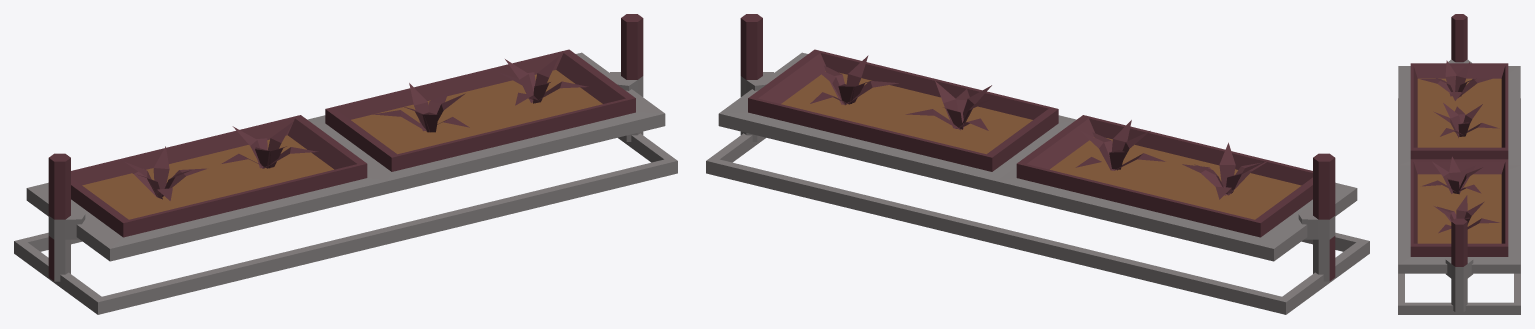
File: scifi-hydroponic-shelf-bottom.fbx
3 views of the same model, side by side, from view 1: azimuth 30°, elevation 25°; view 2: azimuth 150°, elevation 25°; view 3: azimuth 270°, elevation 25° (orthographic). The views are drawn at different scales.
Visible parts, largest first — view 1: scifi-hydroponic-shelf-bottom; view 2: scifi-hydroponic-shelf-bottom; view 3: scifi-hydroponic-shelf-bottom.
Boxes of the visible parts, left/top/right/bottom form: scifi-hydroponic-shelf-bottom: left=14, top=14, right=677, bottom=314; scifi-hydroponic-shelf-bottom: left=706, top=14, right=1369, bottom=314; scifi-hydroponic-shelf-bottom: left=1398, top=14, right=1520, bottom=314.
Bounding box in the file's own units: 2.45 × 0.4995 × 0.6036.
